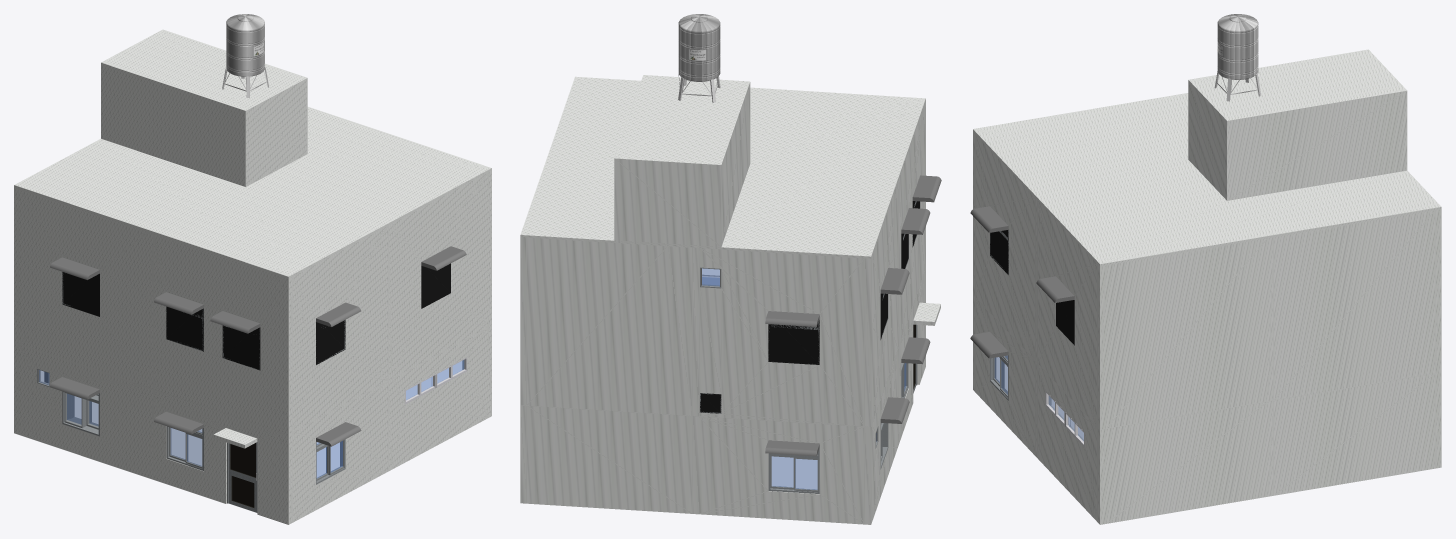
File: 管理室.gltf
3 views of the same model, side by side, from view 1: azimuth 30°, elevation 25°; view 2: azimuth 150°, elevation 25°; view 3: azimuth 270°, elevation 25° (orthographic). The views are drawn at different scales.
Visible parts, largest first — view 1: 管理室, 行政W4 (×3), Water Tower 水塔, object 6, object 9; view 2: 管理室, Water Tower 水塔, 行政W4; view 3: 管理室, Water Tower 水塔, 行政W4.
Boxes of the visible parts, <box> form: 管理室: <box>14,29,491,524</box>; 行政W4 (×3): <box>62,391,345,484</box>; Water Tower 水塔: <box>224,14,266,91</box>; object 6: <box>228,442,257,512</box>; object 9: <box>231,443,255,477</box>; 管理室: <box>520,75,941,524</box>; Water Tower 水塔: <box>678,14,720,96</box>; 行政W4: <box>768,448,819,493</box>; 管理室: <box>970,49,1441,524</box>; Water Tower 水塔: <box>1216,14,1258,94</box>; 行政W4: <box>990,355,1008,400</box>.
Bounding box in the file's own units: 10.85 × 10.91 × 11.22.
11 materials, 9 textured.
